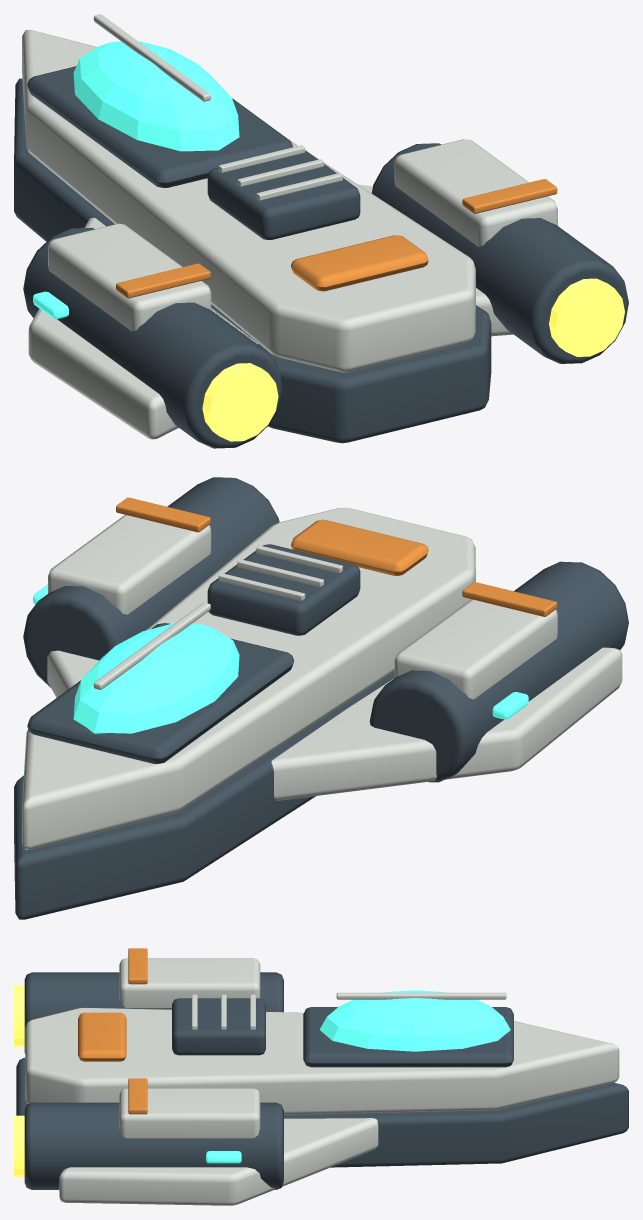
The model's file is ship.glb.
3 renders of one model, top to bottom at view 1: azimuth 30°, elevation 25°; view 2: azimuth 150°, elevation 25°; view 3: azimuth 270°, elevation 25°, orthographic. The views are drawn at different scales.
Parts seen in each view (by area): view 1: Ivory upper fuselage, Armored lower chassis, Ion engine housing, Ion engine housing.001, Faceted mint cockpit, Engine ceramic cover.001, Engine ceramic cover, Cockpit gasket, Cargo pack, Port stabilizer, Rear orange service panel, Glowing engine nozzle (+9 smaller); view 2: Ivory upper fuselage, Armored lower chassis, Port stabilizer, Ion engine housing, Ion engine housing.001, Faceted mint cockpit, Engine ceramic cover.001, Engine ceramic cover, Cockpit gasket, Cargo pack, Rear orange service panel, Engine orange band (+7 smaller); view 3: Ivory upper fuselage, Armored lower chassis, Ion engine housing.001, Starboard stabilizer, Faceted mint cockpit, Engine ceramic cover.001, Engine ceramic cover, Cockpit gasket, Cargo pack, Ion engine housing, Rear orange service panel, Canopy spine (+5 smaller).
Part boxes in pixels (x1=…): Ivory upper fuselage: x1=22, y1=30, x2=475, y2=372; Armored lower chassis: x1=14, y1=78, x2=491, y2=443; Ion engine housing: x1=23, y1=227, x2=282, y2=448; Ion engine housing.001: x1=371, y1=143, x2=628, y2=363; Faceted mint cockpit: x1=73, y1=41, x2=239, y2=151; Engine ceramic cover.001: x1=394, y1=139, x2=557, y2=246; Engine ceramic cover: x1=48, y1=223, x2=211, y2=331; Cockpit gasket: x1=27, y1=66, x2=292, y2=187; Cargo pack: x1=207, y1=150, x2=360, y2=239; Port stabilizer: x1=28, y1=217, x2=258, y2=439; Rear orange service panel: x1=291, y1=235, x2=428, y2=291; Glowing engine nozzle: x1=202, y1=363, x2=278, y2=441; Ivory upper fuselage: x1=22, y1=507, x2=475, y2=849; Armored lower chassis: x1=14, y1=672, x2=394, y2=919; Port stabilizer: x1=271, y1=647, x2=622, y2=800; Ion engine housing: x1=369, y1=561, x2=628, y2=782; Ion engine housing.001: x1=23, y1=477, x2=279, y2=687; Faceted mint cockpit: x1=73, y1=623, x2=239, y2=733; Engine ceramic cover.001: x1=48, y1=515, x2=211, y2=614; Engine ceramic cover: x1=394, y1=599, x2=557, y2=699; Cockpit gasket: x1=27, y1=623, x2=294, y2=763; Cargo pack: x1=207, y1=544, x2=360, y2=635; Rear orange service panel: x1=291, y1=519, x2=428, y2=575; Engine orange band: x1=462, y1=582, x2=557, y2=616; Ivory upper fuselage: x1=25, y1=1007, x2=619, y2=1114; Armored lower chassis: x1=16, y1=1057, x2=628, y2=1167; Ion engine housing.001: x1=24, y1=1102, x2=283, y2=1189; Starboard stabilizer: x1=59, y1=1118, x2=378, y2=1205; Faceted mint cockpit: x1=319, y1=990, x2=510, y2=1051; Engine ceramic cover.001: x1=119, y1=1088, x2=260, y2=1138; Engine ceramic cover: x1=119, y1=958, x2=260, y2=1007; Cockpit gasket: x1=303, y1=1007, x2=513, y2=1067; Cargo pack: x1=172, y1=998, x2=265, y2=1055; Ion engine housing: x1=24, y1=972, x2=283, y2=1053; Rear orange service panel: x1=78, y1=1012, x2=126, y2=1061; Canopy spine: x1=336, y1=992, x2=506, y2=999.
Size of the model in its own units: 2.7 by 0.9575 by 3.79.
